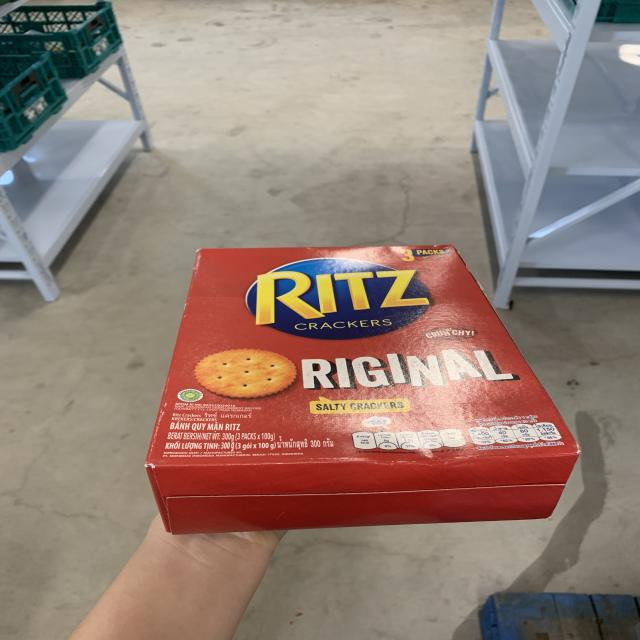object_name: (157, 249, 563, 522)
